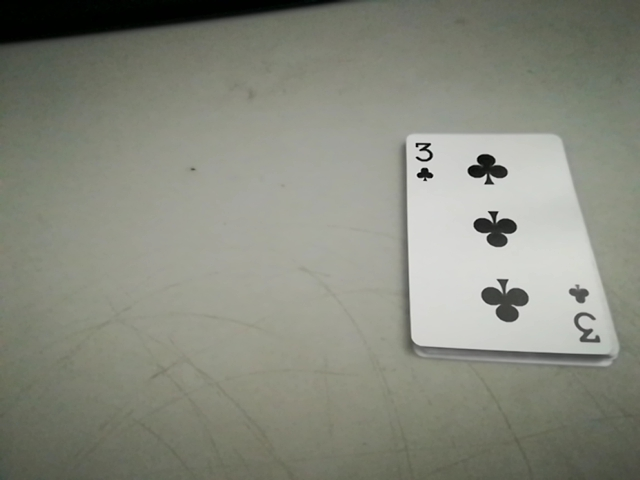mh 3: (566, 279, 607, 351), (408, 136, 442, 186)
